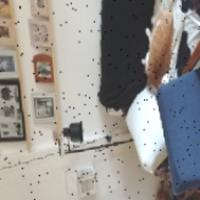asleep: (137, 9, 176, 87)
